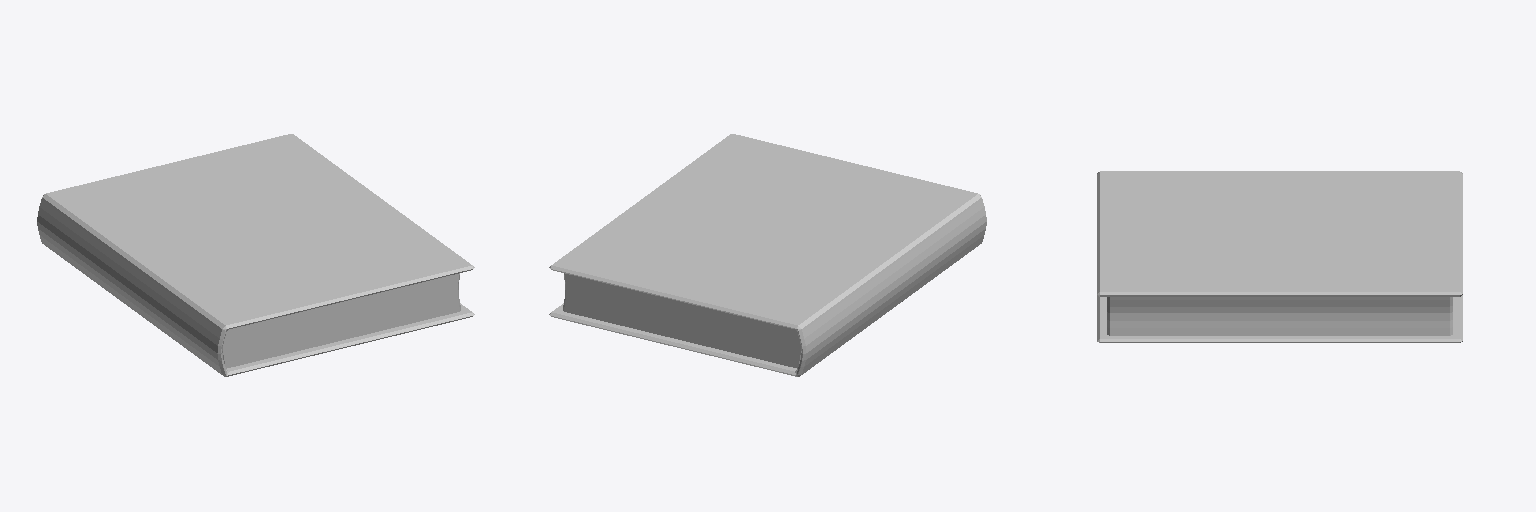
The model's file is book.obj.
3 views of the same model, side by side, from view 1: azimuth 30°, elevation 25°; view 2: azimuth 150°, elevation 25°; view 3: azimuth 270°, elevation 25° (orthographic).
Visible parts, largest first — view 1: Cube; view 2: Cube; view 3: Cube.
Part boxes in pixels (bbox=[...]): Cube: bbox=[37, 134, 474, 376]; Cube: bbox=[549, 134, 986, 376]; Cube: bbox=[1097, 171, 1462, 342].
Bounding box in the file's own units: 139 × 26.54 × 171.